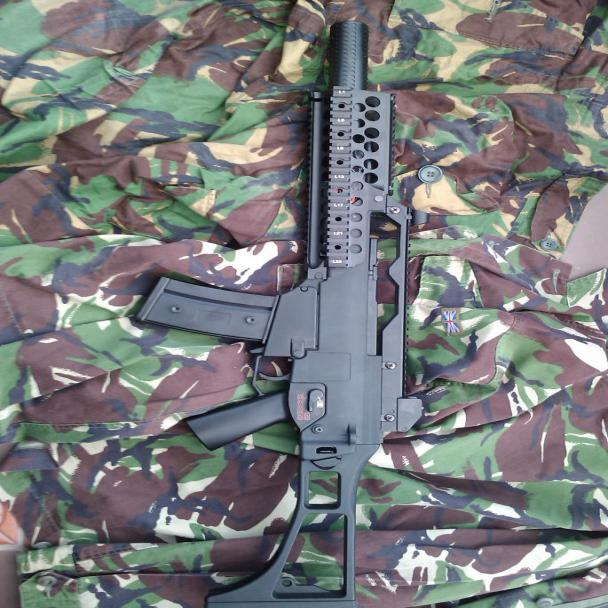Gun: (143, 9, 434, 607)
